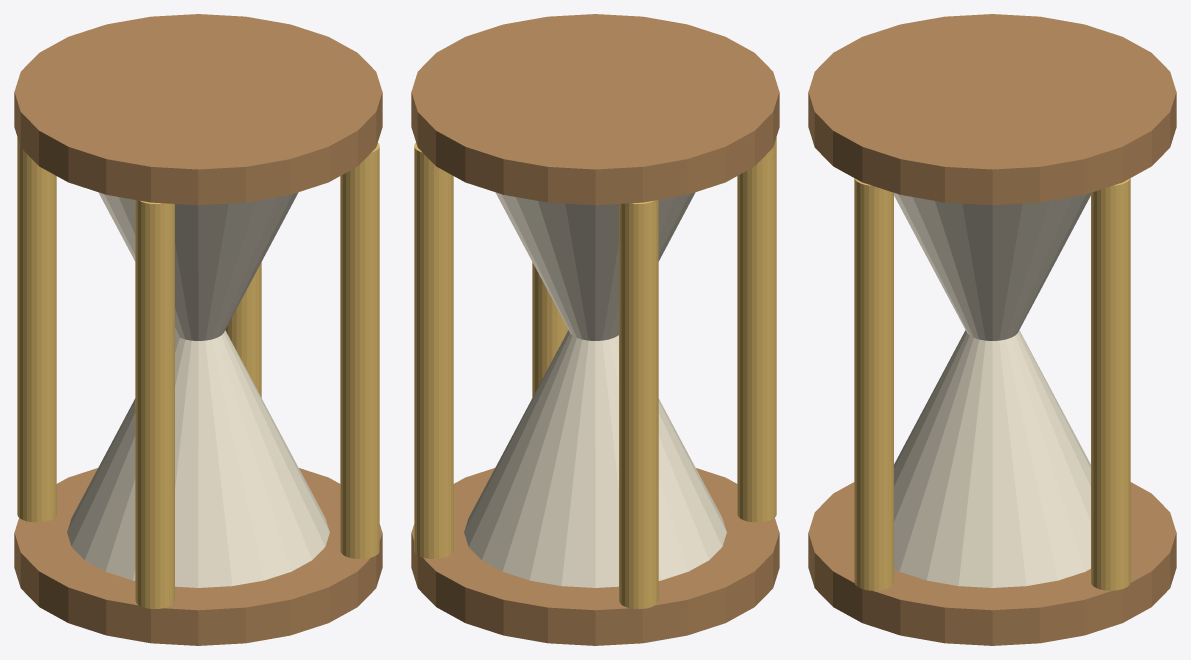
Rendered from tabletop-game-components-hourglass-b4819602__20882.glb.
3 renders of one model, left to right at view 1: azimuth 30°, elevation 25°; view 2: azimuth 150°, elevation 25°; view 3: azimuth 270°, elevation 25°, orthographic.
Visible parts, largest first — view 1: hourglass; view 2: hourglass; view 3: hourglass.
Boxes of the visible parts, x1,y1,x2,y2 form: hourglass: (14, 14, 382, 645); hourglass: (411, 14, 779, 645); hourglass: (808, 14, 1176, 645).
Size of the model in its own units: 0.028 by 0.04 by 0.028.
